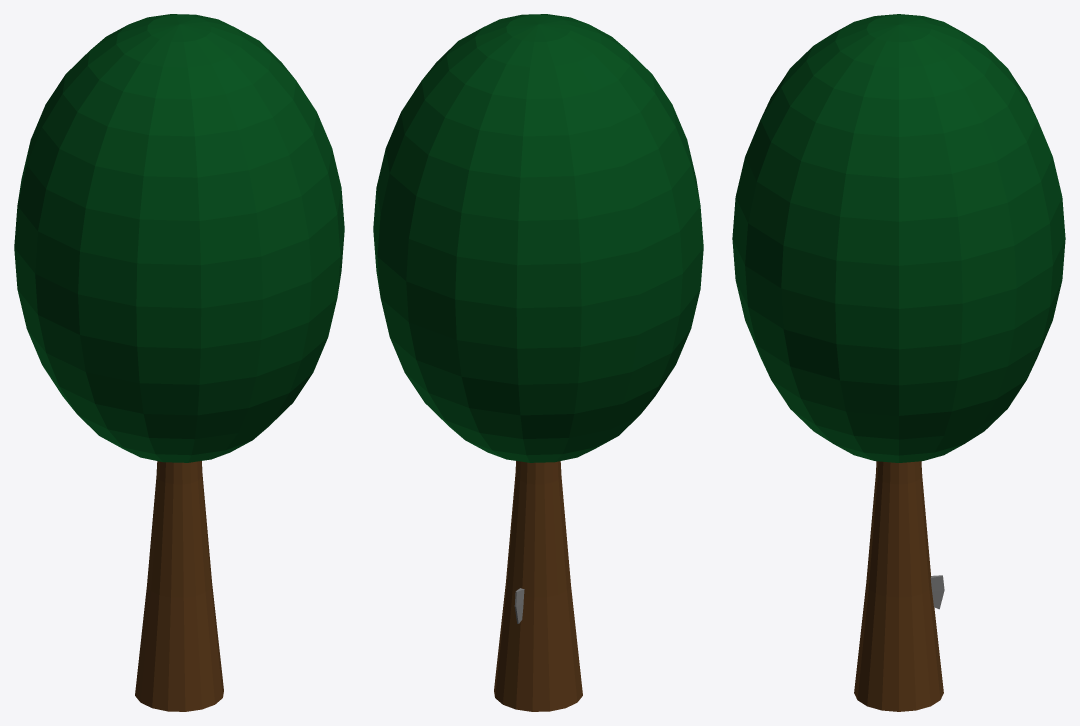
File: Tree.fbx
3 renders of one model, left to right at view 1: azimuth 30°, elevation 25°; view 2: azimuth 150°, elevation 25°; view 3: azimuth 270°, elevation 25°, orthographic.
Visible parts, largest first — view 1: UpperTree, Stump; view 2: UpperTree, Stump; view 3: UpperTree, Stump.
Boxes of the visible parts, x1,y1,x2,y2 form: UpperTree: [14, 14, 344, 637]; Stump: [135, 621, 223, 711]; UpperTree: [373, 14, 703, 637]; Stump: [494, 621, 582, 711]; UpperTree: [732, 14, 1065, 637]; Stump: [854, 623, 943, 711].
Bounding box in the file's own units: 1.4 × 3.11 × 1.4.
Materials: 1 (1 with a texture image).
